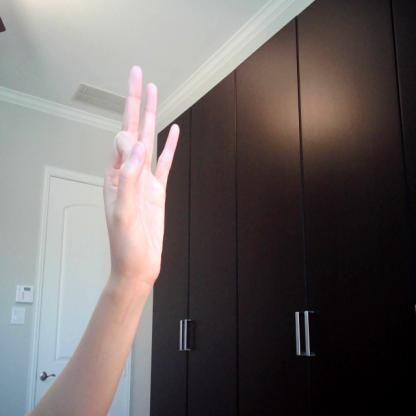nine: (101, 57, 188, 294)
